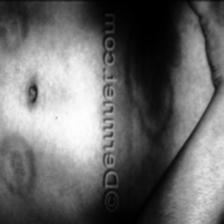Unclassified: (130, 0, 176, 142), (0, 132, 34, 192), (0, 0, 32, 52)
